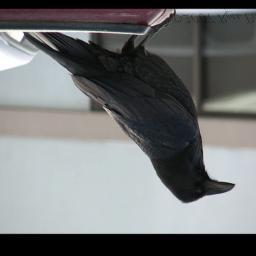Crow: (22, 12, 237, 204)
